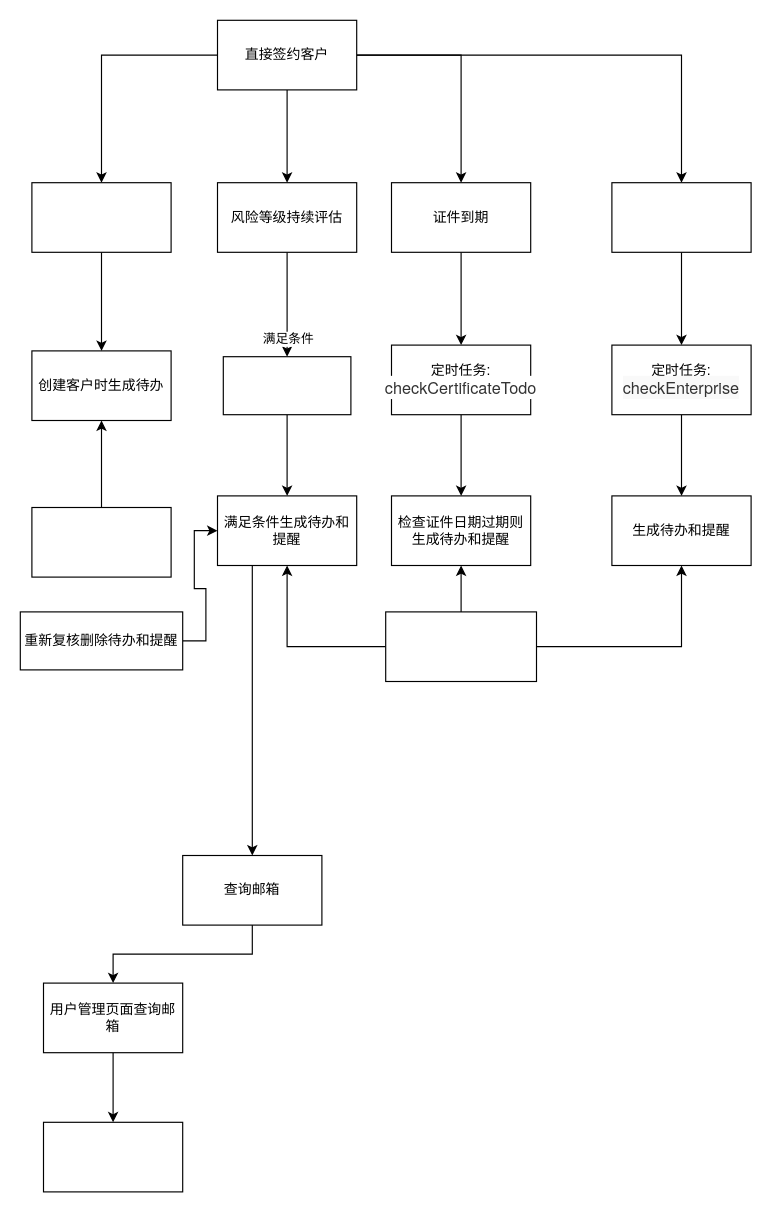
The diagram is 771 pixels wide and 1212 high, and some of its shapes have lost their labels. The box of each missing label's shape, as (x1, y1, x2, y2) in pixels:
定时任务待办: checkEvaluationTodo: (222, 356, 351, 415)
定时任务检查提醒checkAllAmlRemind: (385, 611, 536, 682)
洗钱风险等级划分: (31, 182, 171, 252)
直接上级 组织机构查询主岗对应的审批组长作为直接上级: (42, 1121, 183, 1192)
等级划分后删除等级待办: (31, 506, 171, 577)
营业执照到期: (611, 182, 751, 252)
